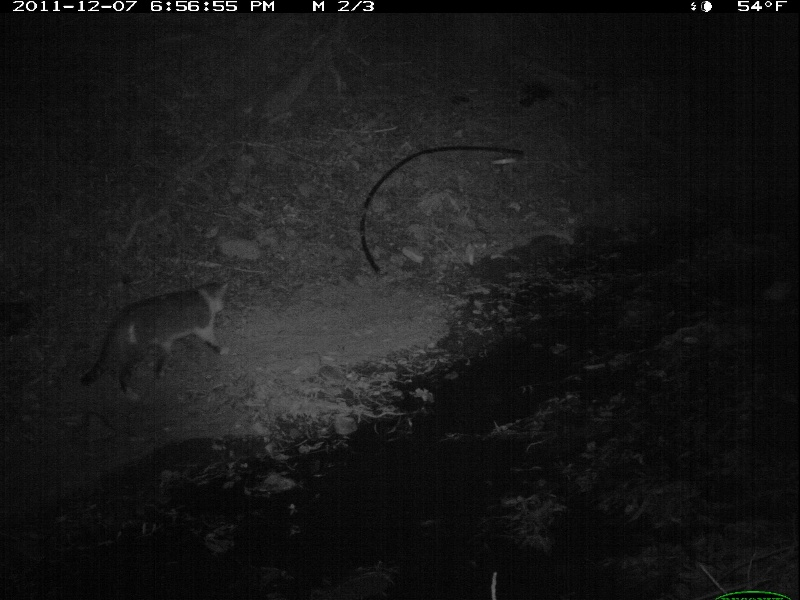cat: (82, 276, 231, 399)
